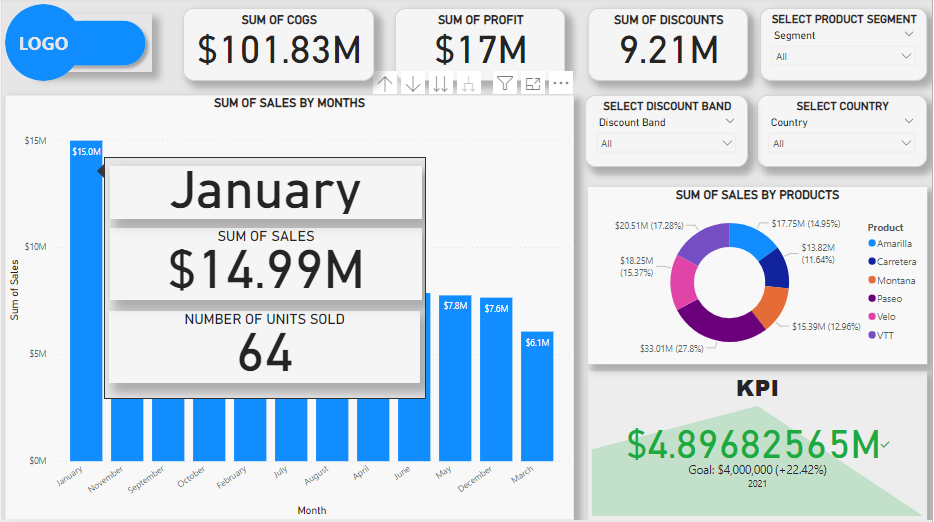

Layout of this report page (visuals, bound fields, positions):
{"tool":"powerbi","page":{"name":"Page 1","canvas":[1280,720],"ordinal":0},"visuals":[{"type":"card","title":"SUM OF PROFIT","fields":{"Values":["Sum(Randomised dates.Profit)"]},"box":[540.9,15.1,234,100.5],"z":0},{"type":"columnChart","title":"SUM OF SALES BY MONTHS","fields":{"Y":["Sum(financials. Sales)"],"Category":["financials.Date.Variation.Date Hierarchy.Year","financials.Date.Variation.Date Hierarchy.Quarter","financials.Date.Variation.Date Hierarchy.Month","financials.Date.Variation.Date Hierarchy.Day"]},"box":[4.1,134.9,783.1,584.9],"z":500},{"type":"slicer","title":"SELECT COUNTRY","fields":{"Values":["financials.Country"]},"box":[1039.1,134.9,234,99.1],"z":1000},{"type":"donutChart","title":"SUM OF SALES BY PRODUCTS","fields":{"Y":["Sum(financials. Sales)"],"Series":["financials.Product"]},"box":[806.5,261.5,466.6,243.6],"z":3000},{"type":"card","title":"SUM OF COGS","fields":{"Values":["Sum(financials.COGS)"]},"box":[249.1,15.1,262.9,100.5],"z":4000},{"type":"card","title":"SUM OF DISCOUNTS","fields":{"Values":["Sum(financials.Discounts)"]},"box":[806.5,15.1,220.2,100.5],"z":5000},{"type":"slicer","title":"SELECT PRODUCT SEGMENT","fields":{"Values":["financials.Segment"]},"box":[1043.3,15.1,229.8,100.5],"z":6000},{"type":"kpi","title":"KPI","fields":{"Indicator":["Sum(financials.Profit)"],"Goal":["financials.Target"],"TrendLine":["financials.Date.Variation.Date Hierarchy.Year"]},"box":[806.5,514.8,466.6,205.1],"z":7000},{"type":"slicer","title":"SELECT DISCOUNT BAND","fields":{"Values":["financials.Discount Band"]},"box":[802.4,134.9,224.3,99.1],"z":8000},{"type":"shape","box":[42.7,23.4,163.8,79.8],"z":8500},{"type":"shape","box":[4.1,9.6,106,106],"z":9000}]}

Visuals, with their boxes in screenshot pixels (x1, y1, x2, y2), scaled from the page's 1280x720 canvas onto the 934x522 screenshot:
"SUM OF PROFIT" card: [395,11,565,84]
"SUM OF SALES BY MONTHS" columnChart: [3,98,574,521]
"SELECT COUNTRY" slicer: [758,98,929,170]
"SUM OF SALES BY PRODUCTS" donutChart: [588,190,929,366]
"SUM OF COGS" card: [182,11,374,84]
"SUM OF DISCOUNTS" card: [588,11,749,84]
"SELECT PRODUCT SEGMENT" slicer: [761,11,929,84]
"KPI" kpi: [588,373,929,521]
"SELECT DISCOUNT BAND" slicer: [586,98,749,170]
shape: [31,17,151,75]
shape: [3,7,80,84]
